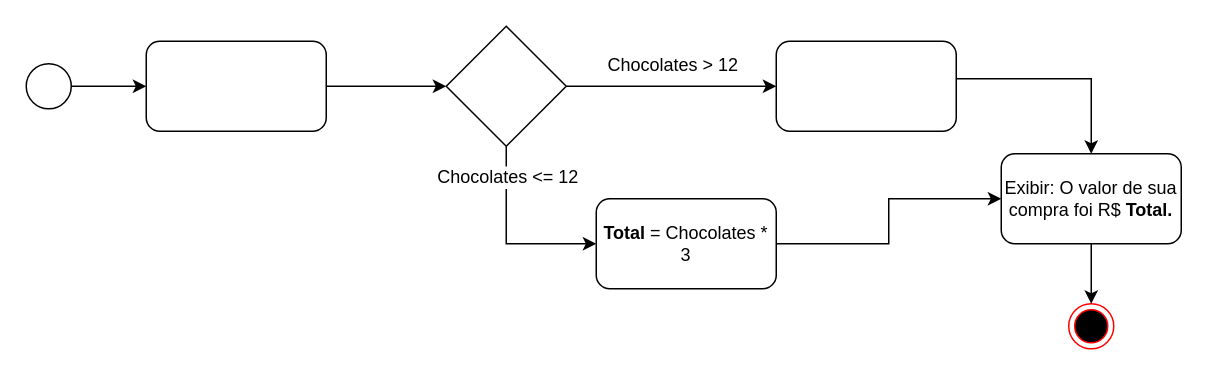
This 1208x375 diagram has some shape labels left out. The shapes that lost their labels are listed below. From the top down, each one's centre as x and y in pixels, then its label:
(x=235, y=85): Inserir a quantidade de chocolates
(x=865, y=85): Total = Chocolates * 2.5
